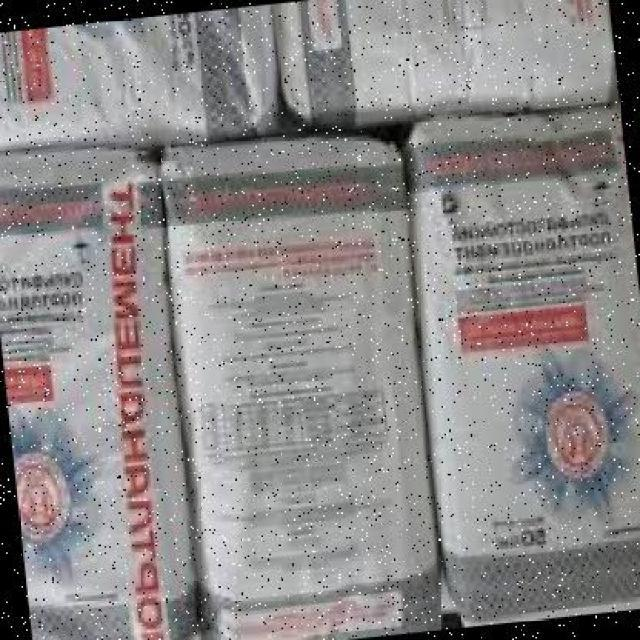gunny_bag: (146, 123, 448, 640), (397, 92, 640, 628), (0, 144, 191, 640), (274, 0, 617, 126), (0, 3, 282, 151)
